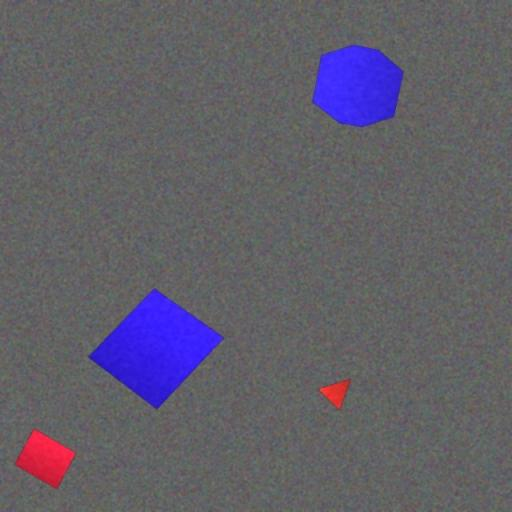BLUE_SQUARE: (87, 288, 225, 410)
RED_SQUARE: (14, 427, 76, 490)
